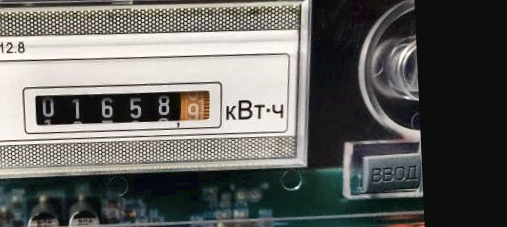0: (40, 95, 54, 118)
1: (70, 97, 81, 120)
5: (127, 95, 142, 119)
6: (98, 96, 113, 118)
8: (155, 93, 170, 116)
9: (183, 101, 198, 123)
screen: (15, 72, 230, 142)
